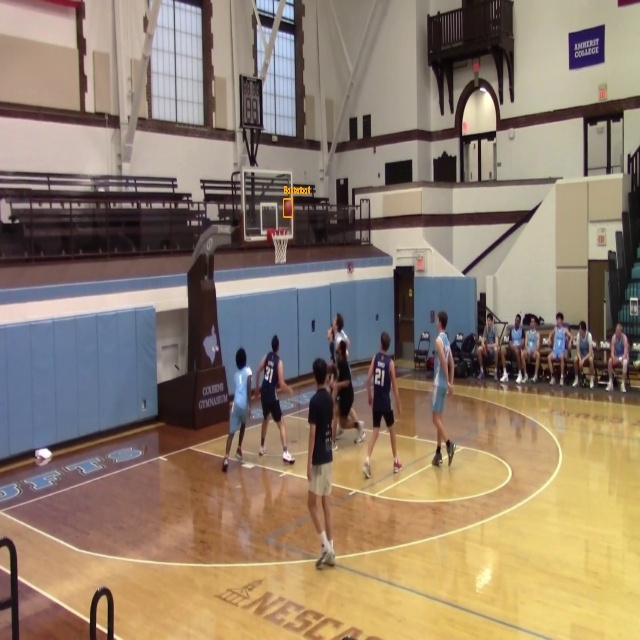Basketball: (284, 199, 293, 217)
